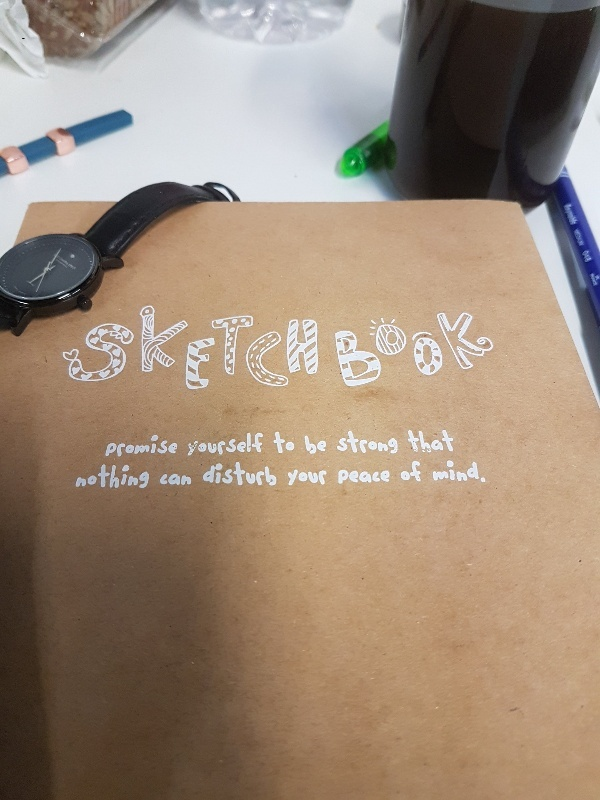text: (65, 301, 80, 391), (81, 301, 96, 391), (97, 301, 112, 391), (113, 301, 128, 391), (129, 301, 144, 391), (145, 301, 160, 391), (161, 301, 176, 391), (177, 301, 192, 391), (193, 301, 208, 391), (209, 301, 224, 391), (225, 301, 240, 391), (241, 301, 256, 391), (257, 301, 272, 391), (273, 301, 288, 391), (289, 301, 304, 391), (305, 301, 319, 391), (337, 308, 352, 388), (353, 308, 368, 388), (369, 308, 384, 388), (385, 308, 400, 388), (401, 308, 416, 388), (417, 308, 432, 388), (433, 308, 448, 388), (449, 308, 464, 388), (465, 308, 480, 388), (481, 308, 495, 388), (81, 463, 96, 490), (97, 463, 112, 490), (113, 463, 128, 490), (129, 463, 144, 490), (209, 461, 224, 487), (225, 461, 240, 487), (241, 461, 256, 487), (257, 461, 272, 487), (337, 430, 352, 454), (353, 430, 368, 454), (369, 430, 384, 454), (193, 432, 208, 456), (209, 432, 224, 456), (225, 432, 240, 456), (241, 432, 256, 456), (273, 431, 288, 455), (433, 460, 448, 484), (449, 460, 464, 484), (465, 460, 480, 484), (562, 202, 576, 227), (417, 430, 432, 453), (433, 430, 448, 453), (113, 435, 128, 458), (129, 435, 144, 458), (145, 435, 160, 458), (161, 435, 176, 458), (401, 461, 416, 484), (385, 430, 399, 454), (332, 308, 336, 388), (305, 435, 320, 455), (403, 430, 416, 453), (289, 469, 304, 487), (305, 469, 320, 487), (353, 469, 368, 486), (369, 469, 384, 486), (338, 469, 352, 486), (177, 473, 193, 487), (161, 473, 176, 487), (577, 228, 587, 248), (580, 249, 592, 265), (289, 431, 296, 455), (145, 463, 151, 490), (449, 430, 456, 453), (321, 435, 329, 455), (202, 461, 208, 487), (257, 432, 263, 456), (417, 461, 423, 484), (75, 463, 80, 490), (273, 461, 278, 487), (321, 469, 328, 487), (481, 460, 486, 484), (385, 469, 391, 486), (188, 432, 192, 456), (63, 301, 64, 391), (593, 274, 598, 288), (109, 435, 112, 458), (573, 228, 576, 248), (577, 202, 579, 227), (177, 435, 179, 458), (589, 274, 592, 288), (286, 469, 288, 487), (595, 275, 600, 282)
